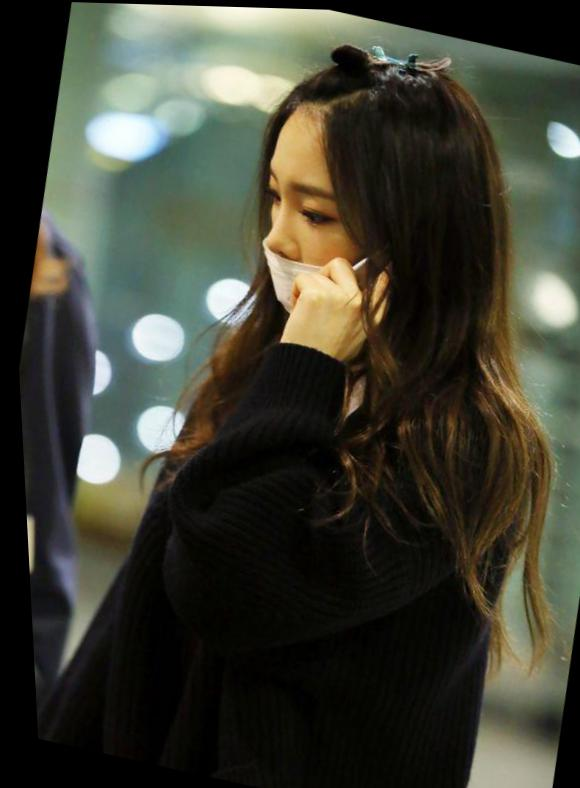WRONG: (220, 158, 415, 351)
